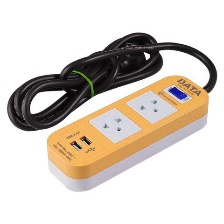three_eye_plug: (44, 71, 212, 197)
